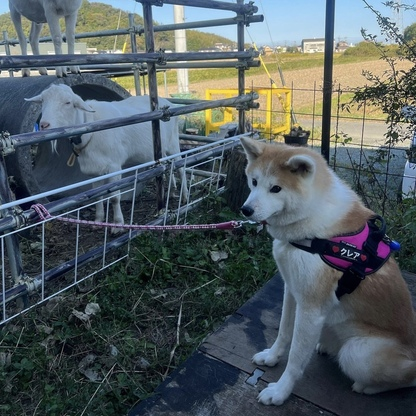akita: (223, 131, 414, 409)
